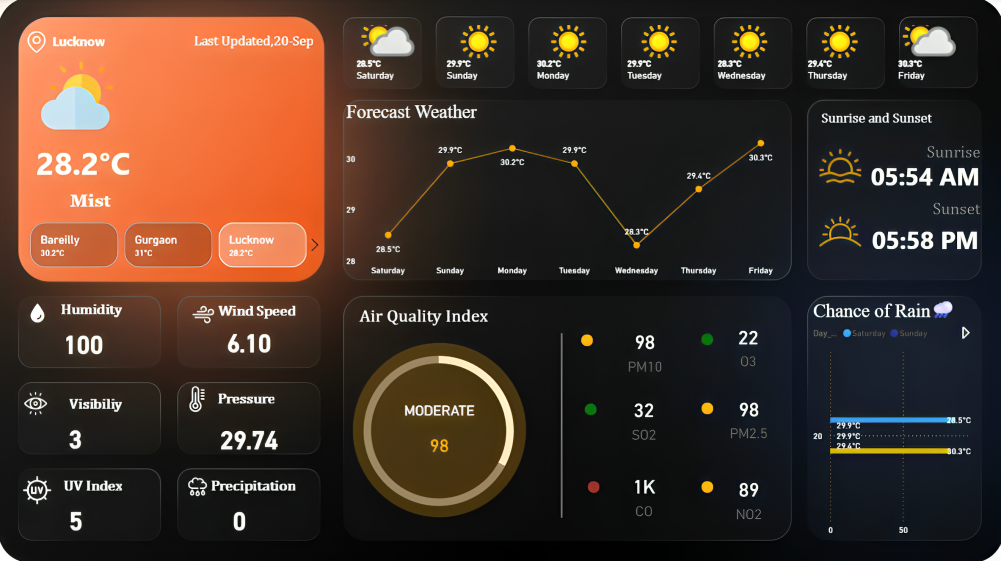

What the dashboard file says about the page in this screenshot:
{"tool":"powerbi","page":{"name":"Page 1","canvas":[1280,720],"ordinal":0},"visuals":[{"type":"donutChart","fields":{"Y":["Sum(Current.current.air_quality.pm10)","_Measures.Left_valye_PM10"]},"box":[426.8,425.4,267.6,249.3],"z":0},{"type":"shape","box":[450.7,438,221.1,222.5],"z":1000},{"type":"advancedSlicerVisual","fields":{"Values":["Location.location.name"]},"box":[15.1,279.9,402.1,67.2],"z":2000},{"type":"shape","box":[25,206.2,183.8,100],"z":3000},{"type":"shape","box":[68.6,27.4,115.3,50.8],"z":4000},{"type":"shape","box":[216.8,4.1,183.9,100.2],"z":5000},{"type":"image","box":[27.4,35.7,41.2,37],"z":6000},{"type":"image","box":[231,484.2,42.7,51.5],"z":7000},{"type":"image","box":[29.4,382.6,41.2,35.3],"z":8000},{"type":"image","box":[234,601.9,39.7,39.7],"z":9000},{"type":"image","box":[234,382.6,53,39.7],"z":10000},{"type":"image","box":[25,495.9,44.1,39.7],"z":11000},{"type":"image","box":[25,601.9,48.6,48.6],"z":12000},{"type":"image","box":[50,63.8,102.5,116.2],"z":13000},{"type":"shape","box":[39.7,347.3,117.7,98.6],"z":14000},{"type":"shape","box":[39.7,468,117.7,98.6],"z":15000},{"type":"shape","box":[260.5,348.8,117.7,98.6],"z":16000},{"type":"shape","box":[234,460.6,117.7,98.6],"z":17000},{"type":"shape","box":[260.5,572.5,117.7,98.6],"z":18000},{"type":"shape","box":[39.7,572.5,117.7,98.6],"z":19000},{"type":"card","fields":{"Values":["Sum(Current.current.humidity)"]},"box":[50,397.3,117.7,82.4],"z":20000},{"type":"card","fields":{"Values":["Sum(Current.current.wind_kph)"]},"box":[260.7,396.2,117.4,82.6],"z":21000},{"type":"card","fields":{"Values":["Sum(Current.current.vis_km)"]},"box":[40,517.5,117.4,82.6],"z":22000},{"type":"card","fields":{"Values":["Sum(Current.current.pressure_in)"]},"box":[260.7,518.8,117.4,82.6],"z":23000},{"type":"card","fields":{"Values":["Sum(Current.current.uv)"]},"box":[40,622.1,117.4,82.6],"z":24000},{"type":"card","fields":{"Values":["Sum(Current.current.precip_in)"]},"box":[249.1,622.1,117.4,82.6],"z":25000},{"type":"advancedSlicerVisual","fields":{"Values":["Forcast_Day.Day_Name"]},"box":[437.5,15,813.8,97.5],"z":26000},{"type":"lineChart","title":"Forecast Weather","fields":{"Y":["Sum(Forcast_Day.forecast.forecastday.day.avgtemp_c)"],"Category":["Forcast_Day.Day_Name"]},"box":[437.5,130,570,230],"z":27000},{"type":"shape","box":[1007.5,98.8,181.2,107.5],"z":28000},{"type":"shape","box":[0,152.5,216.2,111.2],"z":29000},{"type":"shape","box":[1081.2,188.8,198.8,75],"z":30000},{"type":"shape","box":[1081.2,268.8,198.8,75],"z":31000},{"type":"shape","box":[1155,157.5,96.2,77.5],"z":32000},{"type":"shape","box":[1155,230,96.2,77.5],"z":33000},{"type":"image","box":[1022.5,181.2,98.8,63.8],"z":34000},{"type":"image","box":[1022.5,256.2,98.8,81.2],"z":35000},{"type":"clusteredBarChart","title":"Chance of Rain🌧️","fields":{"Y":["Sum(Forcast_Day.forecast.forecastday.day.daily_chance_of_rain)"],"Category":["Current.current.last_updated.Variation.Date Hierarchy.Day"],"Series":["Forcast_Day.Day_Name"]},"box":[1032.4,380.3,218.3,311.3],"z":36000},{"type":"shape","box":[438,349.3,185.9,111.3],"z":37000},{"type":"card","fields":{"Values":["Sum(Current.current.air_quality.o3)"]},"box":[902.8,402.8,105.6,76.1],"z":38000},{"type":"card","fields":{"Values":["Sum(Current.current.air_quality.no2)"]},"box":[902.8,587.3,107,95.8],"z":39000},{"type":"card","fields":{"Values":["Sum(Current.current.air_quality.co)"]},"box":[762,593,119.7,78.9],"z":40000},{"type":"card","fields":{"Values":["Sum(Current.current.air_quality.pm10)"]},"box":[763.4,407,119.7,81.7],"z":41000},{"type":"card","fields":{"Values":["Sum(Current.current.air_quality.so2)"]},"box":[762,495.8,119.7,76.1],"z":42000},{"type":"card","fields":{"Values":["Sum(Current.current.air_quality.pm2_5)"]},"box":[881.7,494.4,147.9,76.1],"z":43000},{"type":"shape","box":[742.3,426.8,15.5,15.5],"z":44000},{"type":"shape","box":[746.5,515.5,15.5,15.5],"z":45000},{"type":"shape","box":[750.7,614.1,15.5,15.5],"z":46000},{"type":"shape","box":[895.8,425.4,15.5,15.5],"z":47000},{"type":"shape","box":[895.8,514.1,15.5,15.5],"z":48000},{"type":"shape","box":[895.8,614.1,15.5,15.5],"z":49000},{"type":"shape","box":[590.1,425.4,254.9,235.2],"z":50000},{"type":"card","fields":{"Values":["Sum(Current.current.air_quality.pm10)"]},"box":[498.6,514.1,126.8,88.7],"z":51000}]}

Visuals, with their boxes in screenshot pixels (x1, y1, x2, y2), scaled from the page's 1280x720 canvas onto the 1001x561 screenshot:
donutChart - Sum(Current.current.air_quality.pm10) x _Measures.Left_valye_PM10: (left=334, top=331, right=543, bottom=526)
shape: (left=352, top=341, right=525, bottom=515)
advancedSlicerVisual - Location.location.name: (left=12, top=218, right=326, bottom=270)
shape: (left=20, top=161, right=163, bottom=239)
shape: (left=54, top=21, right=144, bottom=61)
shape: (left=170, top=3, right=313, bottom=81)
image: (left=21, top=28, right=54, bottom=57)
image: (left=181, top=377, right=214, bottom=417)
image: (left=23, top=298, right=55, bottom=326)
image: (left=183, top=469, right=214, bottom=500)
image: (left=183, top=298, right=224, bottom=329)
image: (left=20, top=386, right=54, bottom=417)
image: (left=20, top=469, right=58, bottom=507)
image: (left=39, top=50, right=119, bottom=140)
shape: (left=31, top=271, right=123, bottom=347)
shape: (left=31, top=365, right=123, bottom=441)
shape: (left=204, top=272, right=296, bottom=349)
shape: (left=183, top=359, right=275, bottom=436)
shape: (left=204, top=446, right=296, bottom=523)
shape: (left=31, top=446, right=123, bottom=523)
card - Sum(Current.current.humidity): (left=39, top=310, right=131, bottom=374)
card - Sum(Current.current.wind_kph): (left=204, top=309, right=296, bottom=373)
card - Sum(Current.current.vis_km): (left=31, top=403, right=123, bottom=468)
card - Sum(Current.current.pressure_in): (left=204, top=404, right=296, bottom=469)
card - Sum(Current.current.uv): (left=31, top=485, right=123, bottom=549)
card - Sum(Current.current.precip_in): (left=195, top=485, right=287, bottom=549)
advancedSlicerVisual - Forcast_Day.Day_Name: (left=342, top=12, right=979, bottom=88)
"Forecast Weather" lineChart: (left=342, top=101, right=788, bottom=280)
shape: (left=788, top=77, right=930, bottom=161)
shape: (left=0, top=119, right=169, bottom=205)
shape: (left=846, top=147, right=1000, bottom=206)
shape: (left=846, top=209, right=1000, bottom=268)
shape: (left=903, top=123, right=978, bottom=183)
shape: (left=903, top=179, right=978, bottom=240)
image: (left=800, top=141, right=877, bottom=191)
image: (left=800, top=200, right=877, bottom=263)
"Chance of Rain🌧️" clusteredBarChart: (left=807, top=296, right=978, bottom=539)
shape: (left=343, top=272, right=488, bottom=359)
card - Sum(Current.current.air_quality.o3): (left=706, top=314, right=789, bottom=373)
card - Sum(Current.current.air_quality.no2): (left=706, top=458, right=790, bottom=532)
card - Sum(Current.current.air_quality.co): (left=596, top=462, right=690, bottom=524)
card - Sum(Current.current.air_quality.pm10): (left=597, top=317, right=691, bottom=381)
card - Sum(Current.current.air_quality.so2): (left=596, top=386, right=690, bottom=446)
card - Sum(Current.current.air_quality.pm2_5): (left=690, top=385, right=805, bottom=445)
shape: (left=581, top=333, right=593, bottom=345)
shape: (left=584, top=402, right=596, bottom=414)
shape: (left=587, top=478, right=599, bottom=491)
shape: (left=701, top=331, right=713, bottom=344)
shape: (left=701, top=401, right=713, bottom=413)
shape: (left=701, top=478, right=713, bottom=491)
shape: (left=461, top=331, right=661, bottom=515)
card - Sum(Current.current.air_quality.pm10): (left=390, top=401, right=489, bottom=470)
